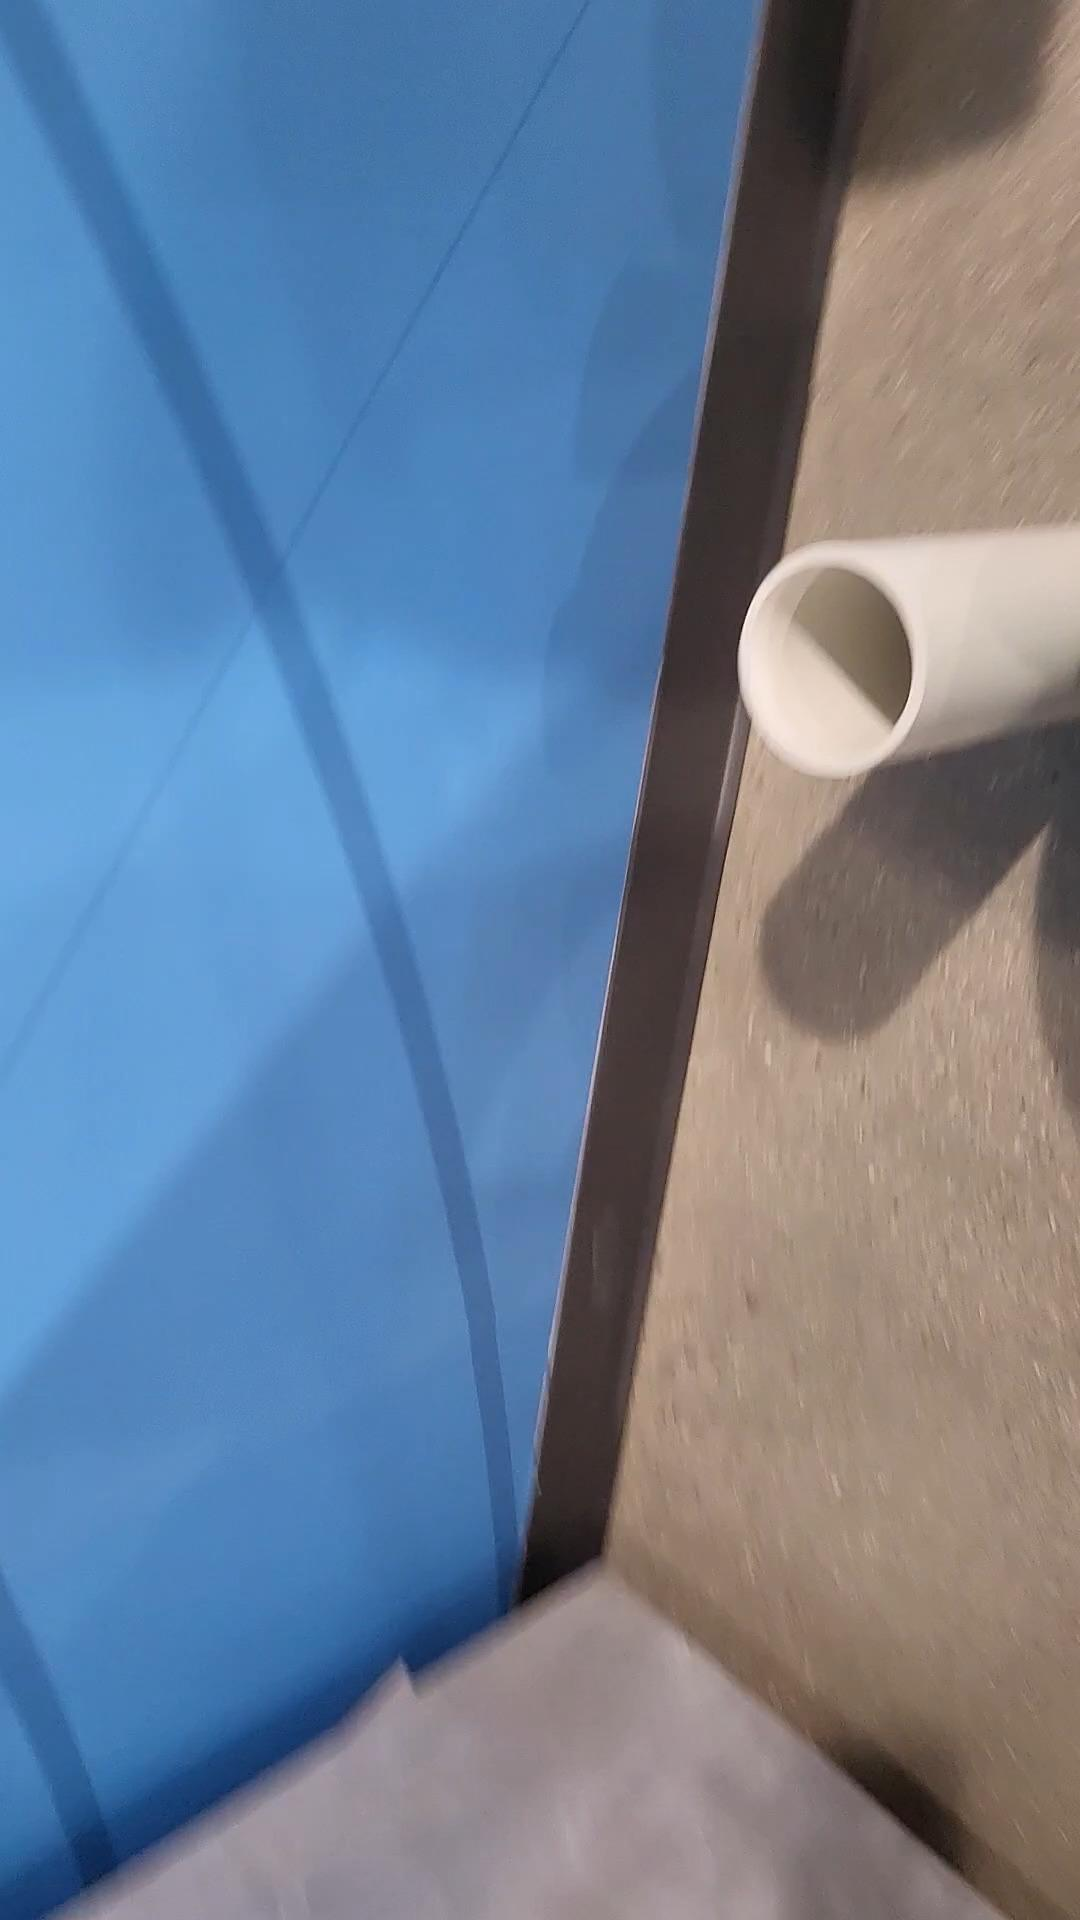coral: (732, 520, 1080, 775)
